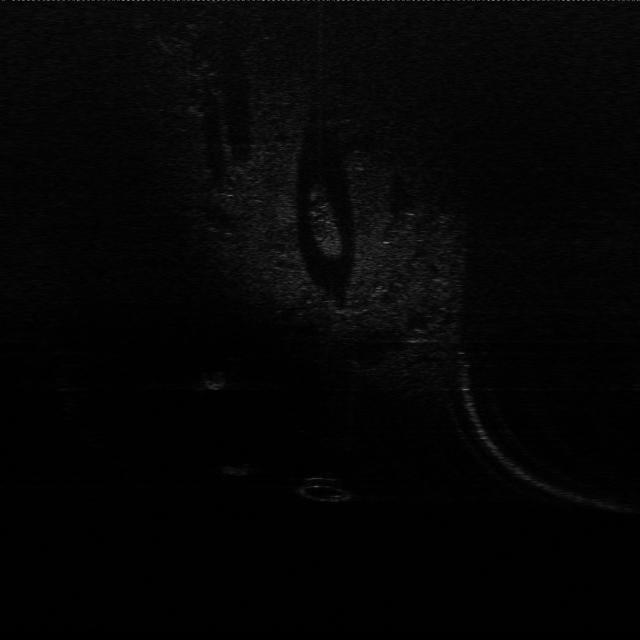cube: (221, 460, 253, 480)
square cage: (199, 369, 232, 393)
tyre: (293, 470, 358, 506)
